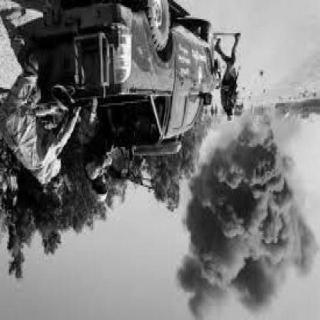Fire: (253, 118, 263, 138)
Smoke: (184, 123, 310, 313)
